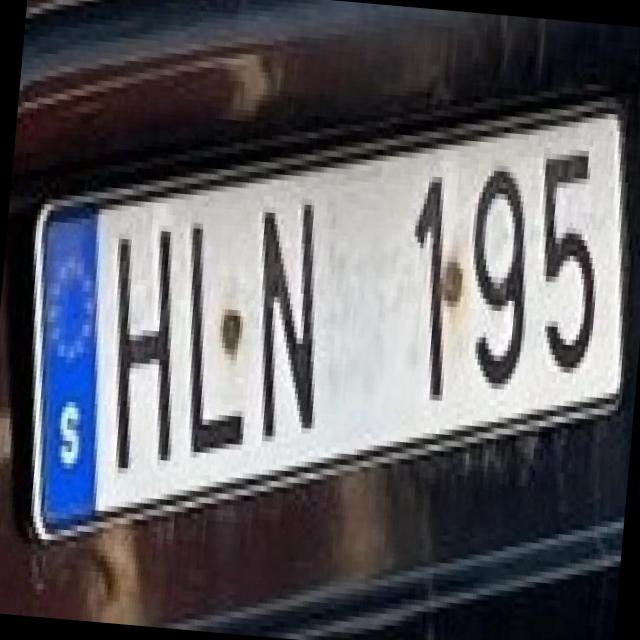1: (381, 146, 474, 402)
5: (515, 129, 616, 375)
9: (446, 140, 541, 391)
H: (82, 198, 192, 478)
L: (157, 188, 267, 462)
N: (230, 172, 345, 440)
